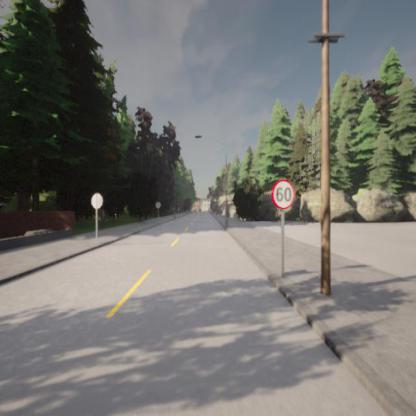traffic_sign_60: (272, 178, 294, 210)
